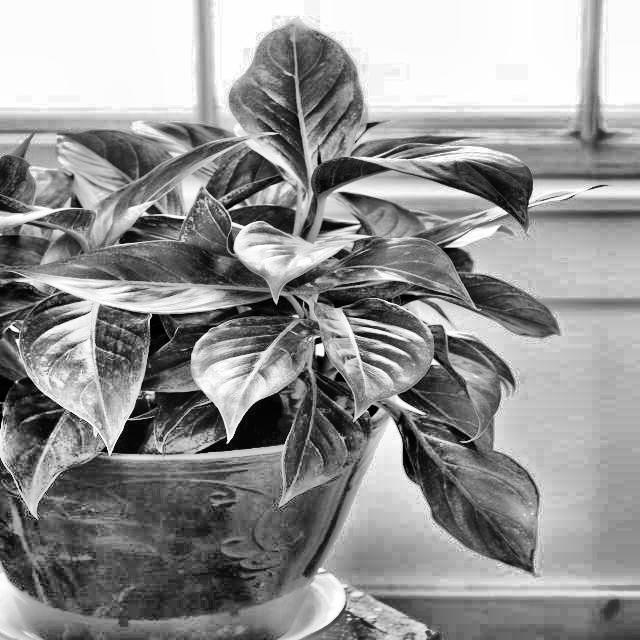plants: (0, 21, 538, 610)
